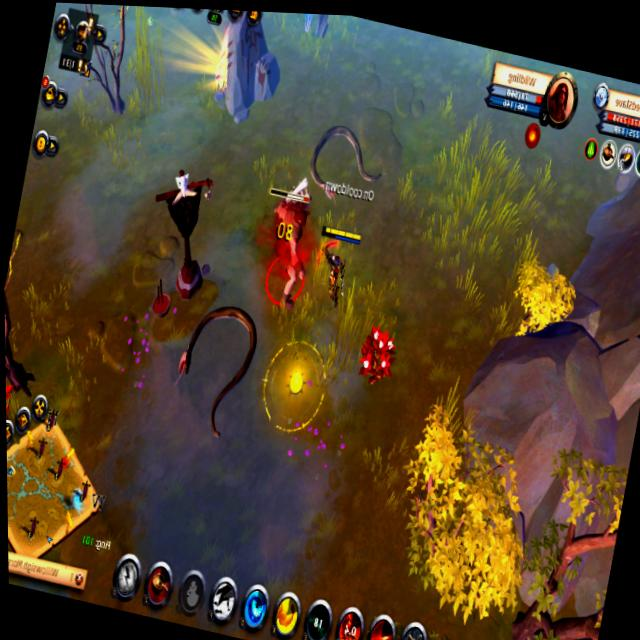hide: (349, 316, 405, 401), (5, 348, 25, 456), (295, 13, 321, 40)
ore: (247, 175, 325, 320)
red: (306, 217, 369, 315)
